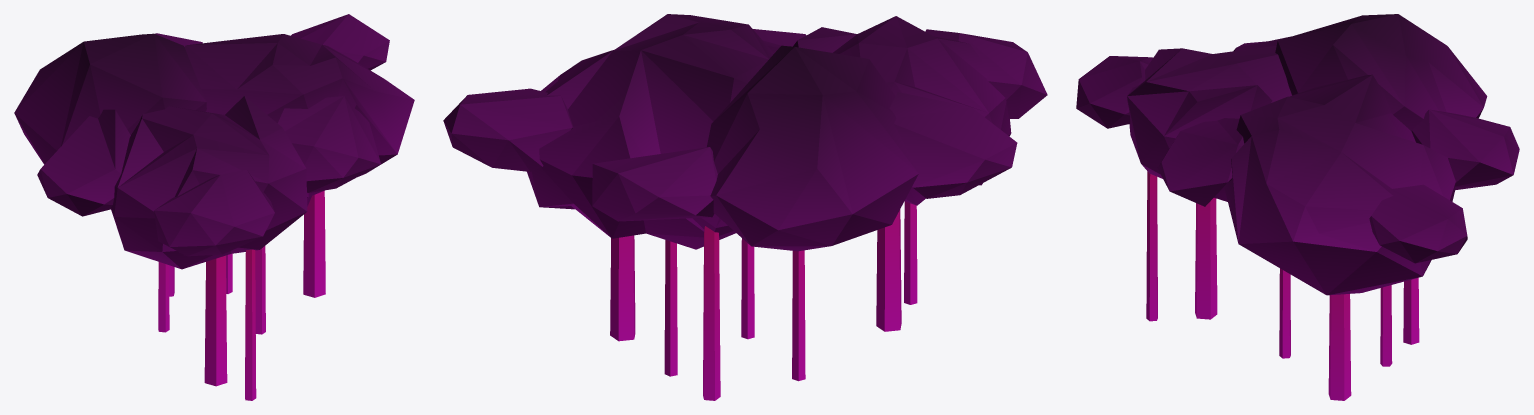
File: SM_Generic_Tree_Patch_01.fbx
3 views of the same model, side by side, from view 1: azimuth 30°, elevation 25°; view 2: azimuth 150°, elevation 25°; view 3: azimuth 270°, elevation 25° (orthographic). The views are drawn at different scales.
Visible parts, largest first — view 1: SM_Generic_Tree_Patch_01; view 2: SM_Generic_Tree_Patch_01; view 3: SM_Generic_Tree_Patch_01.
Boxes of the visible parts, <box> form: SM_Generic_Tree_Patch_01: <box>14,14,414,400</box>; SM_Generic_Tree_Patch_01: <box>443,14,1047,400</box>; SM_Generic_Tree_Patch_01: <box>1076,14,1519,400</box>.
Bounding box in the file's own units: 1557 × 1063 × 1442.
